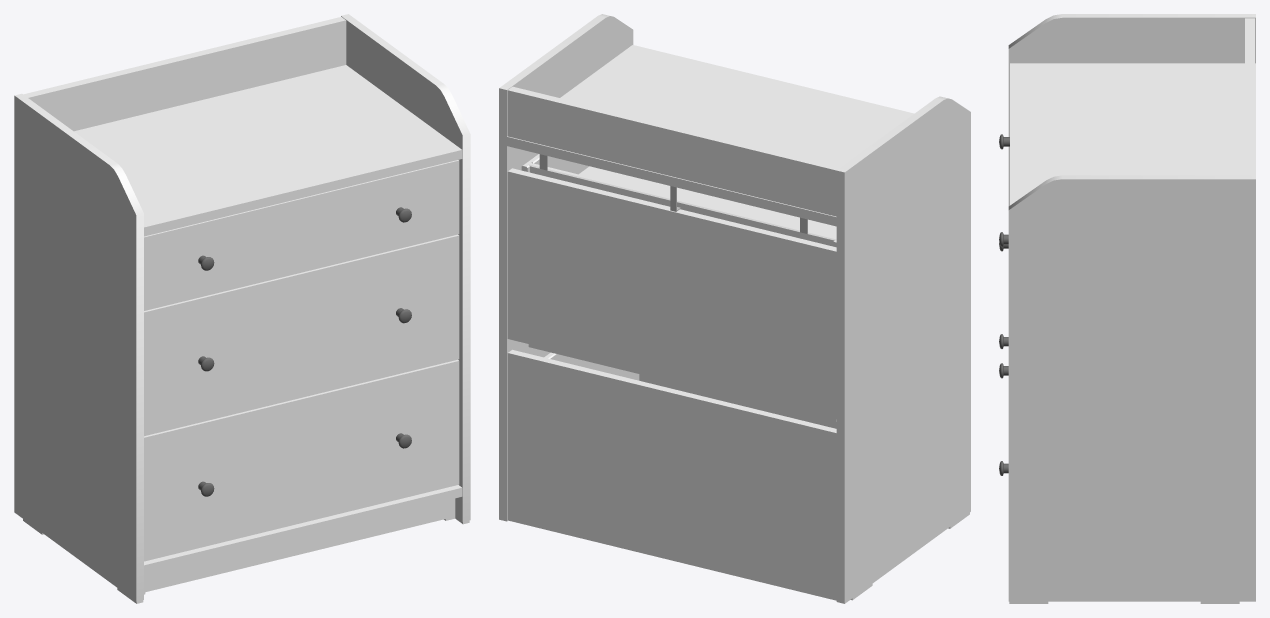
The picture shows the model from 3 angles, left to right: view 1: azimuth 30°, elevation 25°; view 2: azimuth 150°, elevation 25°; view 3: azimuth 270°, elevation 25°; orthographic projection. The views are drawn at different scales.
Visible parts, largest first — view 1: Mesh_0; view 2: Mesh_0; view 3: Mesh_0.
Part boxes in pixels (x1,y1,x2,y2): Mesh_0: (14, 14, 470, 603); Mesh_0: (499, 14, 970, 603); Mesh_0: (999, 14, 1255, 603).
Size of the model in its own units: 0.7 by 0.84 by 0.4601.
1 material, 1 textured.
